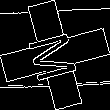M_E: (25, 26, 85, 84)
